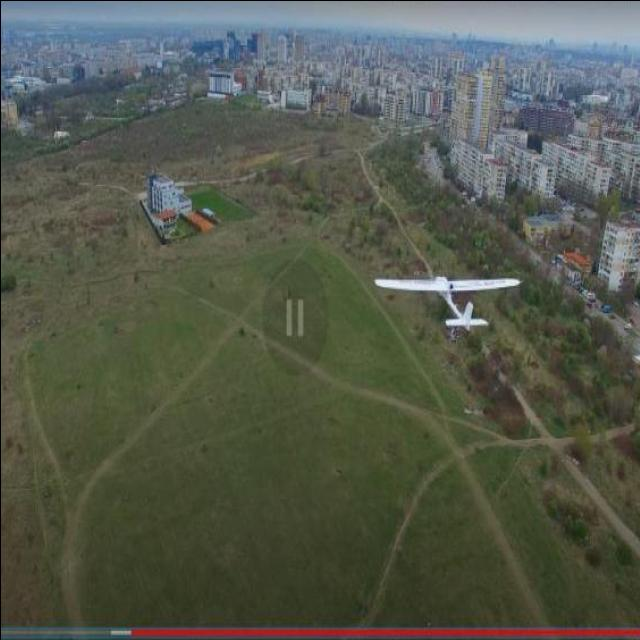plane: (371, 274, 521, 339)
